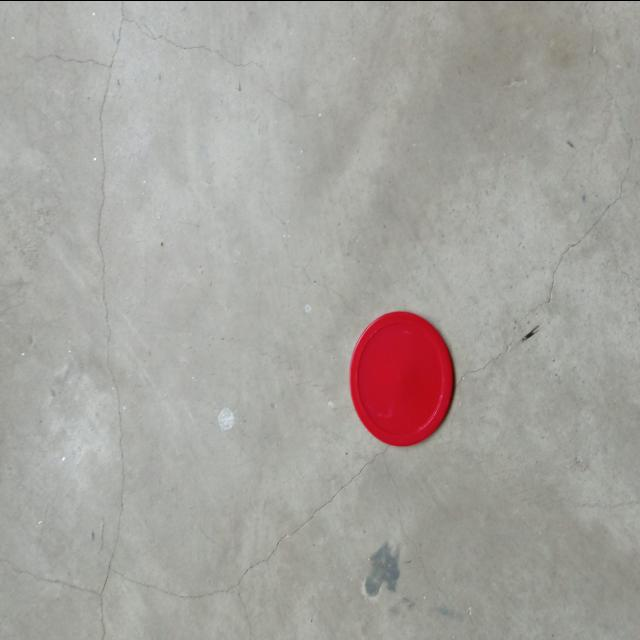chip: (346, 307, 456, 449)
